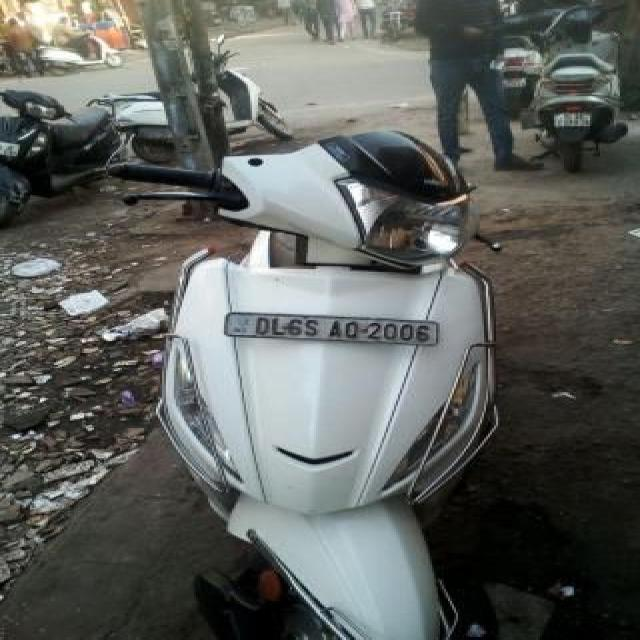number plate: (222, 310, 440, 346)
